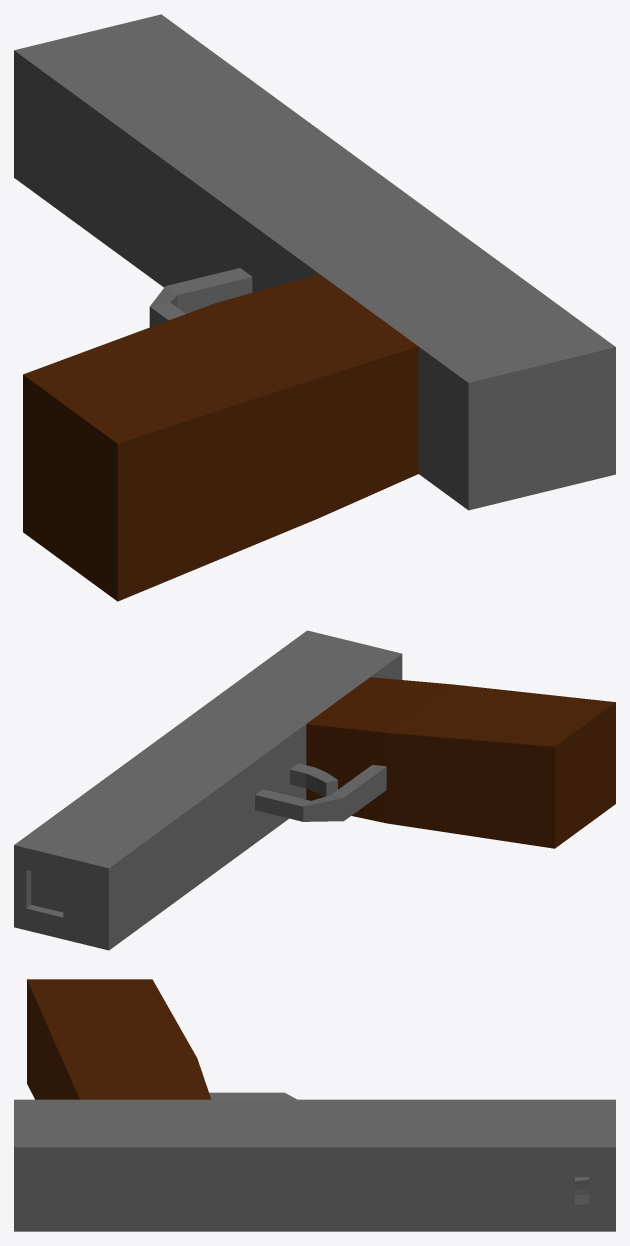
File: pistol.fbx
3 renders of one model, top to bottom at view 1: azimuth 30°, elevation 25°; view 2: azimuth 150°, elevation 25°; view 3: azimuth 270°, elevation 25°, orthographic. The views are drawn at different scales.
Visible parts, largest first — view 1: Cube.001; view 2: Cube.001; view 3: Cube.001.
Boxes of the visible parts, x1,y1,x2,y2 form: Cube.001: [14, 14, 615, 601]; Cube.001: [14, 630, 615, 950]; Cube.001: [14, 979, 615, 1231].
Size of the model in its own units: 254 by 76.5 by 400.
